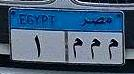1: (31, 33, 44, 58)
meem: (106, 35, 119, 62), (88, 37, 102, 61), (71, 36, 83, 62)
